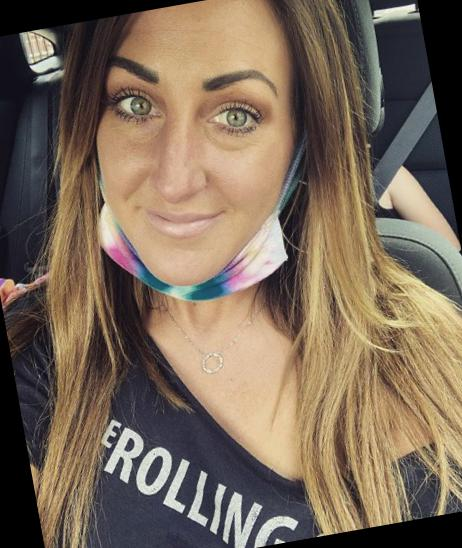mask_weared_incorrect: (86, 35, 302, 316)
